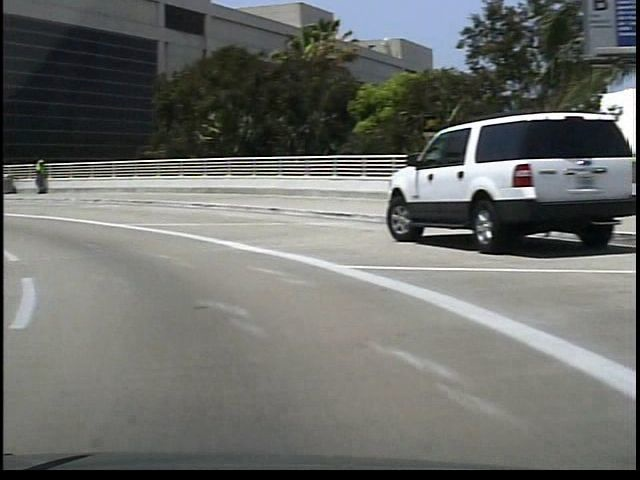person: (29, 155, 46, 197)
